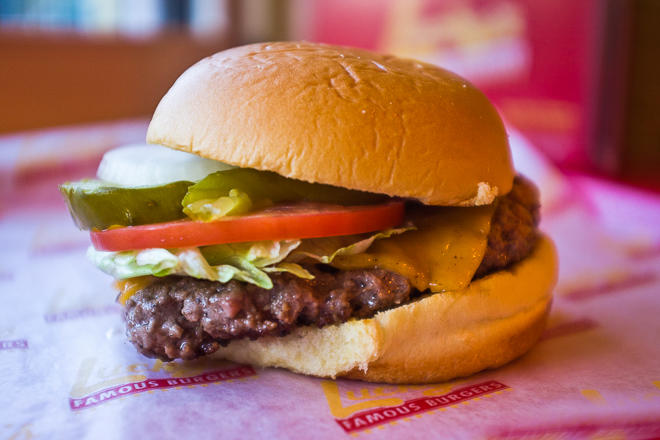hamburger: (74, 24, 588, 402)
